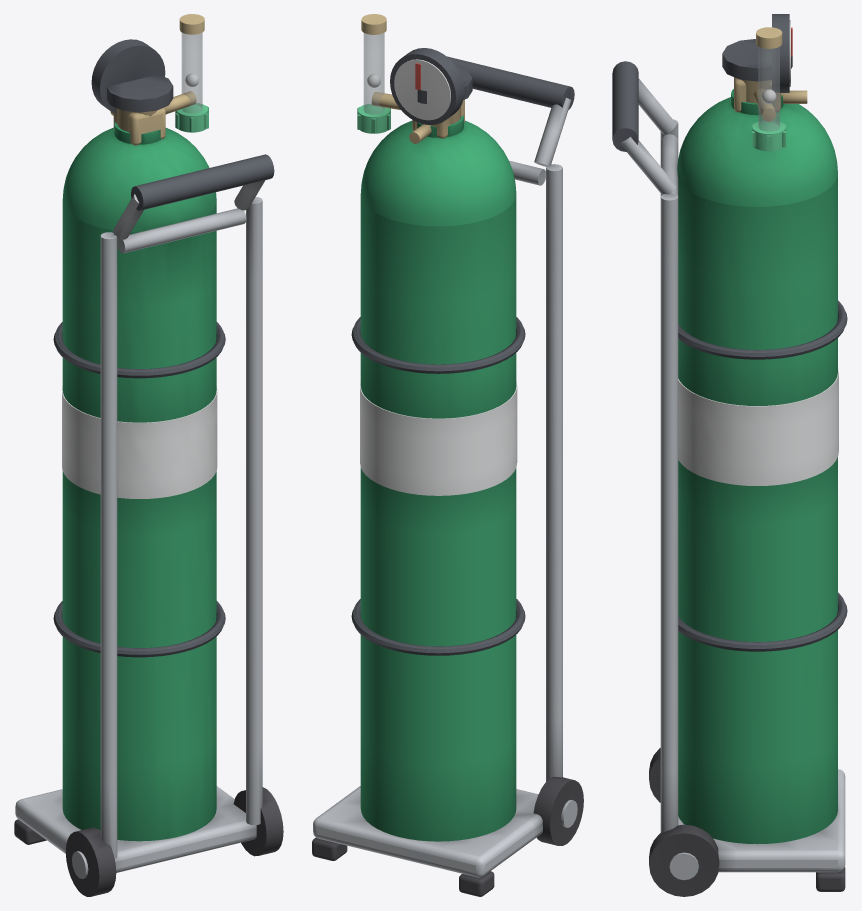
Rendered from oxygen_cylinder.glb.
The picture shows the model from 3 angles, left to right: view 1: azimuth 30°, elevation 25°; view 2: azimuth 150°, elevation 25°; view 3: azimuth 270°, elevation 25°; orthographic projection. The views are drawn at different scales.
Visible parts, largest first — view 1: cyl, upright_-6, label_band, upright_6, dome, base, grip, gauge_rim, wheel_-6, top_bar, valve_wheel, strap_18 (+6 smaller); view 2: cyl, dome, label_band, upright_-6, base, grip, gauge_face, wheel_-6, strap_40, strap_18, gauge_rim, flow_tube (+5 smaller); view 3: cyl, label_band, dome, upright_6, base, wheel_6, grip, strap_40, strap_18, flow_tube, valve_wheel, gauge_rim (+9 smaller).
Boxes of the visible parts, <box> form: cyl: <box>62,201,216,841</box>; upright_-6: <box>100,232,117,859</box>; label_band: <box>62,386,217,498</box>; upright_6: <box>246,197,262,825</box>; dome: <box>62,127,216,232</box>; base: <box>15,786,256,872</box>; grip: <box>131,154,274,210</box>; gauge_rim: <box>91,39,165,113</box>; wheel_-6: <box>65,827,116,896</box>; top_bar: <box>117,208,246,253</box>; valve_wheel: <box>107,74,173,112</box>; strap_18: <box>53,601,225,657</box>; cyl: <box>360,194,516,841</box>; dome: <box>361,120,516,226</box>; label_band: <box>360,381,517,495</box>; upright_-6: <box>546,164,562,781</box>; base: <box>313,786,542,877</box>; grip: <box>447,56,574,109</box>; gauge_face: <box>394,59,450,120</box>; wheel_-6: <box>533,776,583,845</box>; strap_40: <box>351,317,525,373</box>; strap_18: <box>351,599,525,655</box>; gauge_rim: <box>390,48,464,124</box>; flow_tube: <box>363,33,384,114</box>; cyl: <box>678,174,837,844</box>; label_band: <box>678,368,838,485</box>; dome: <box>677,97,837,206</box>; upright_6: <box>660,193,678,832</box>; base: <box>678,769,845,872</box>; wheel_6: <box>649,824,719,896</box>; grip: <box>612,61,638,151</box>; strap_40: <box>678,300,847,359</box>; strap_18: <box>678,592,847,651</box>; flow_tube: <box>758,47,779,131</box>; valve_wheel: <box>722,39,792,81</box>; gauge_rim: <box>772,14,789,92</box>.
Size of the model in its own units: 15.8 by 63.8 by 16.05.
